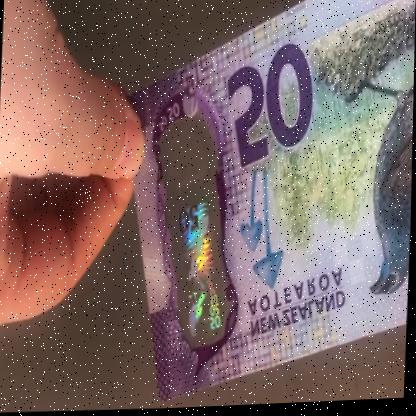50B: (170, 123, 233, 343)
